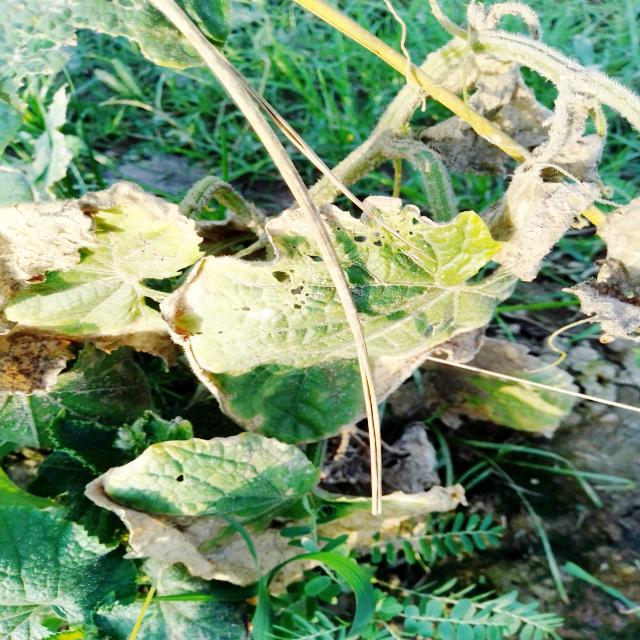Bacterial-Wilt: (477, 135, 606, 282), (563, 195, 640, 347)
